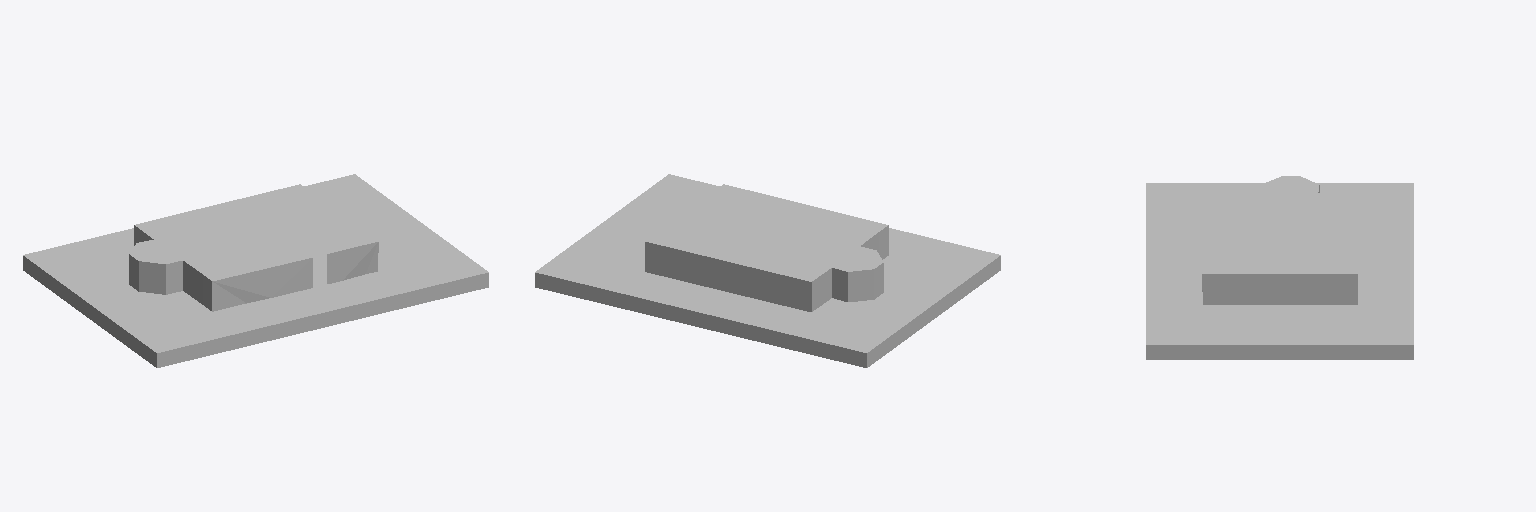
Rendered from f2_col.obj.
3 views of the same model, side by side, from view 1: azimuth 30°, elevation 25°; view 2: azimuth 150°, elevation 25°; view 3: azimuth 270°, elevation 25° (orthographic).
Parts seen in each view (by area): view 1: Plane.003_Plane.005; view 2: Plane.003_Plane.005; view 3: Plane.003_Plane.005.
Part boxes in pixels (bbox=[...]): Plane.003_Plane.005: bbox=[23, 174, 488, 367]; Plane.003_Plane.005: bbox=[535, 174, 1000, 367]; Plane.003_Plane.005: bbox=[1146, 176, 1413, 359].
Bounding box in the file's own units: 6.1 × 0.7979 × 4.27.